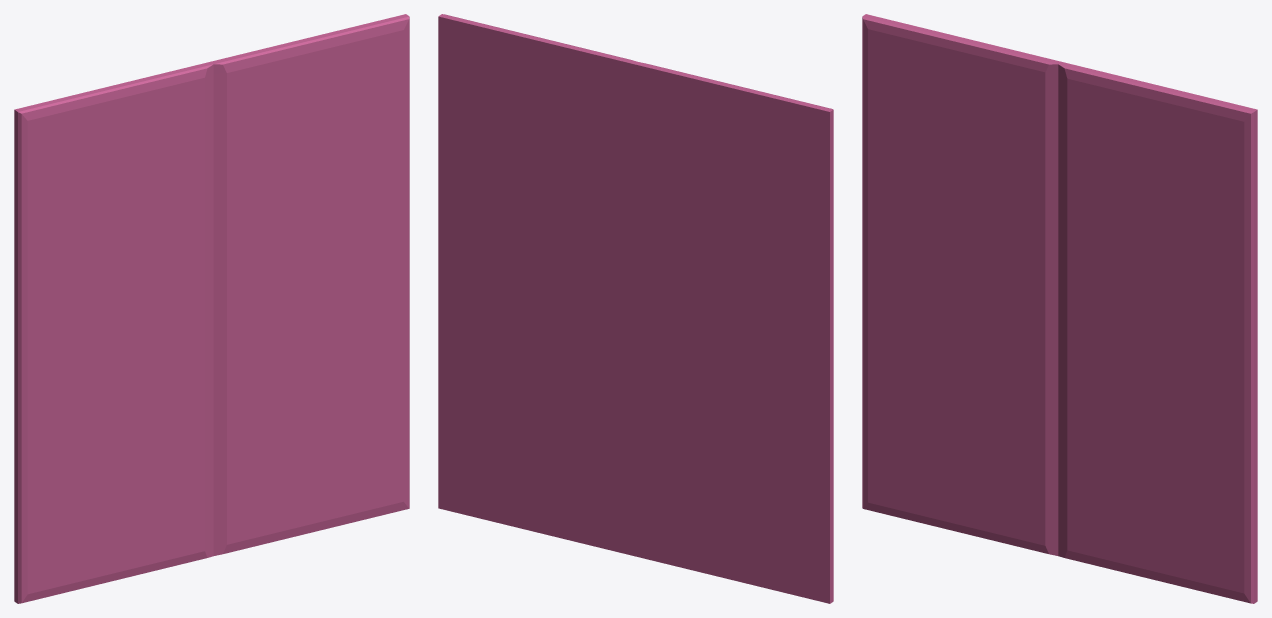
Rendered from WallPanel_Model_v04 (1).fbx.
The picture shows the model from 3 angles, left to right: view 1: azimuth 30°, elevation 25°; view 2: azimuth 150°, elevation 25°; view 3: azimuth 330°, elevation 25°; orthographic projection.
Parts seen in each view (by area): view 1: pPlane16; view 2: pPlane16; view 3: pPlane16.
Part boxes in pixels (bbox=[...]): pPlane16: bbox=[14, 14, 409, 603]; pPlane16: bbox=[438, 14, 833, 603]; pPlane16: bbox=[862, 14, 1257, 603].
Size of the model in its own units: 200 by 240 by 4.86.
1 material, 1 textured.
